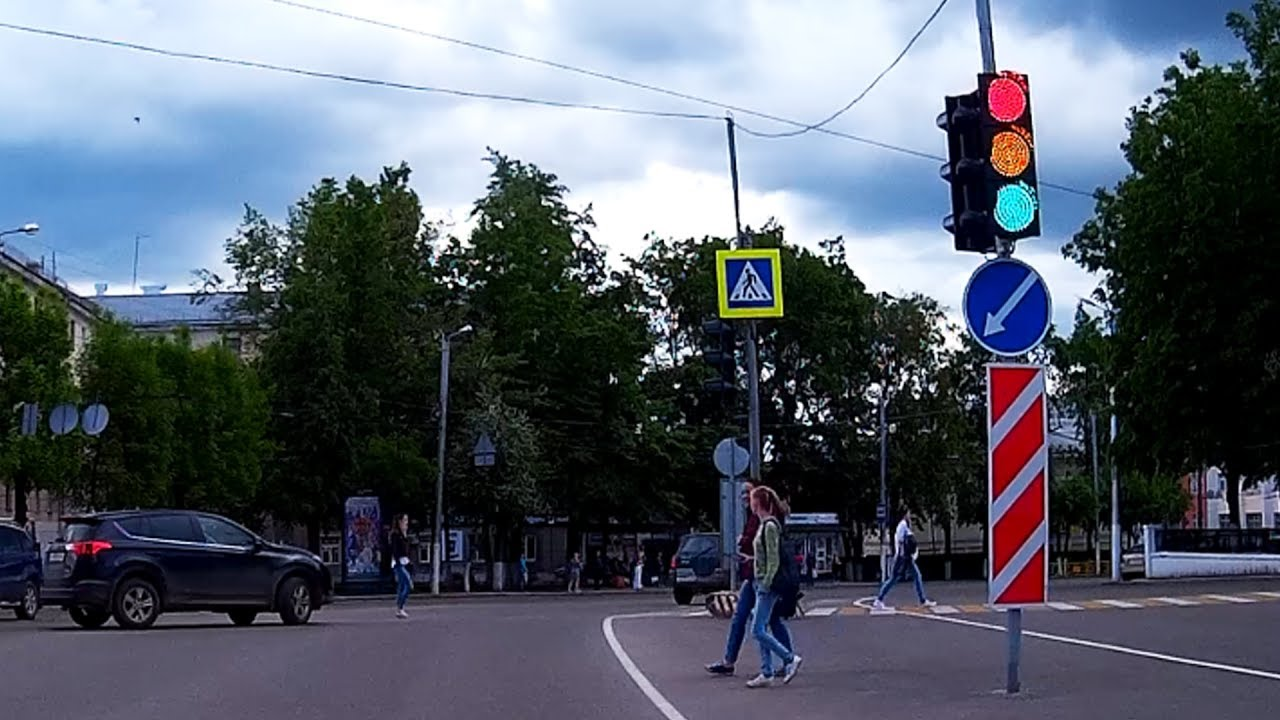tl: (937, 70, 1050, 256)
